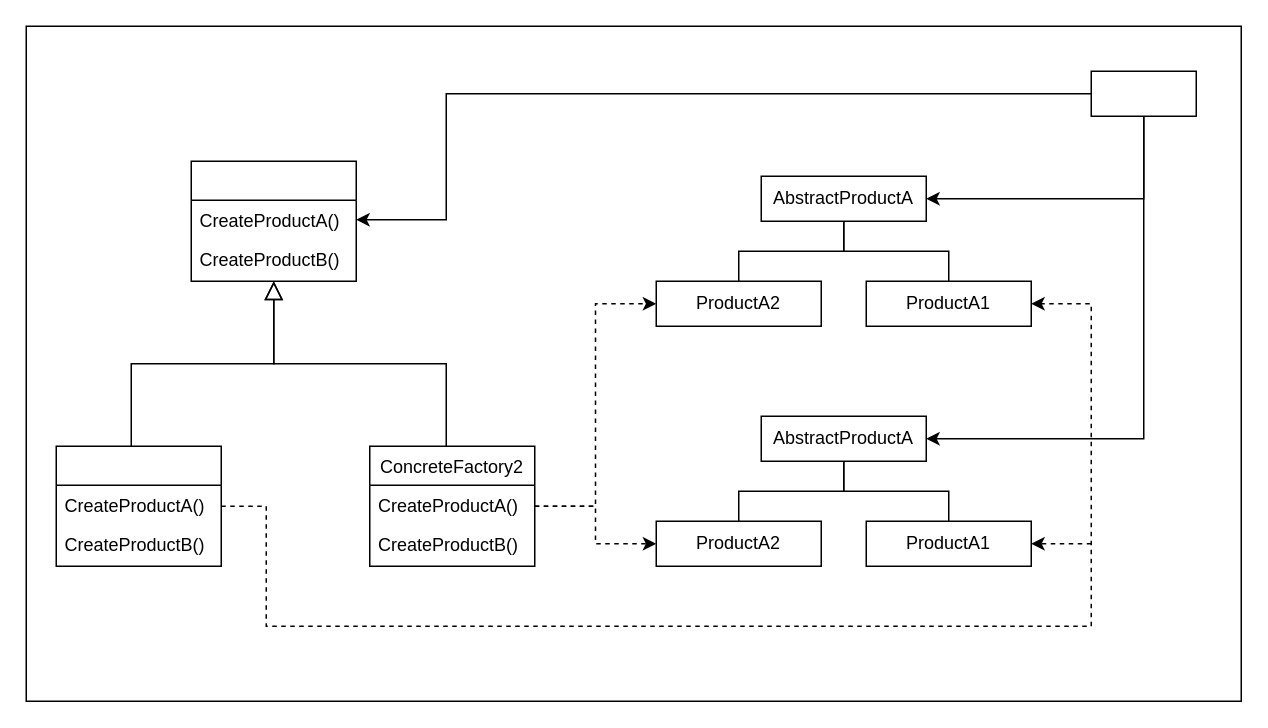
The diagram is 1268 pixels wide and 728 high, and some of its shapes have lost their labels. The shapes that lost their labels are listed below. From the top down, each one's box as (x1, y1, x2, y2) in pixels, then its label:
(1090, 70, 1196, 116): Client
(190, 160, 356, 281): AbstractFactory
(55, 445, 221, 566): ConcreteFactory1
